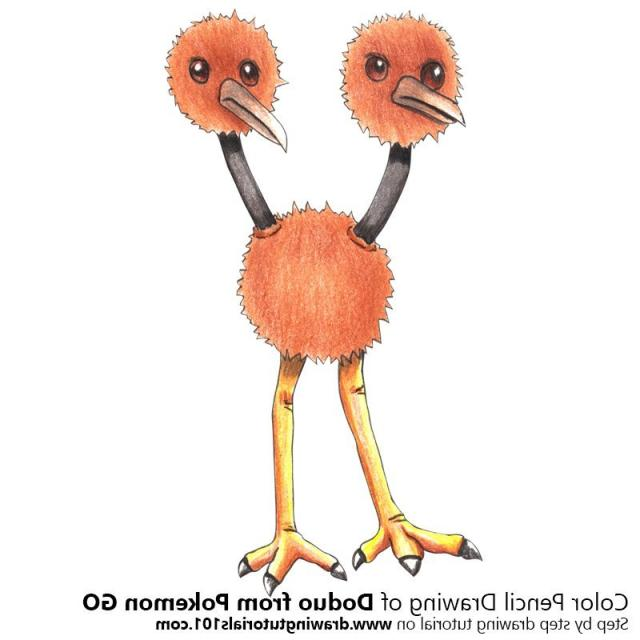Doduo: (160, 13, 477, 577)
